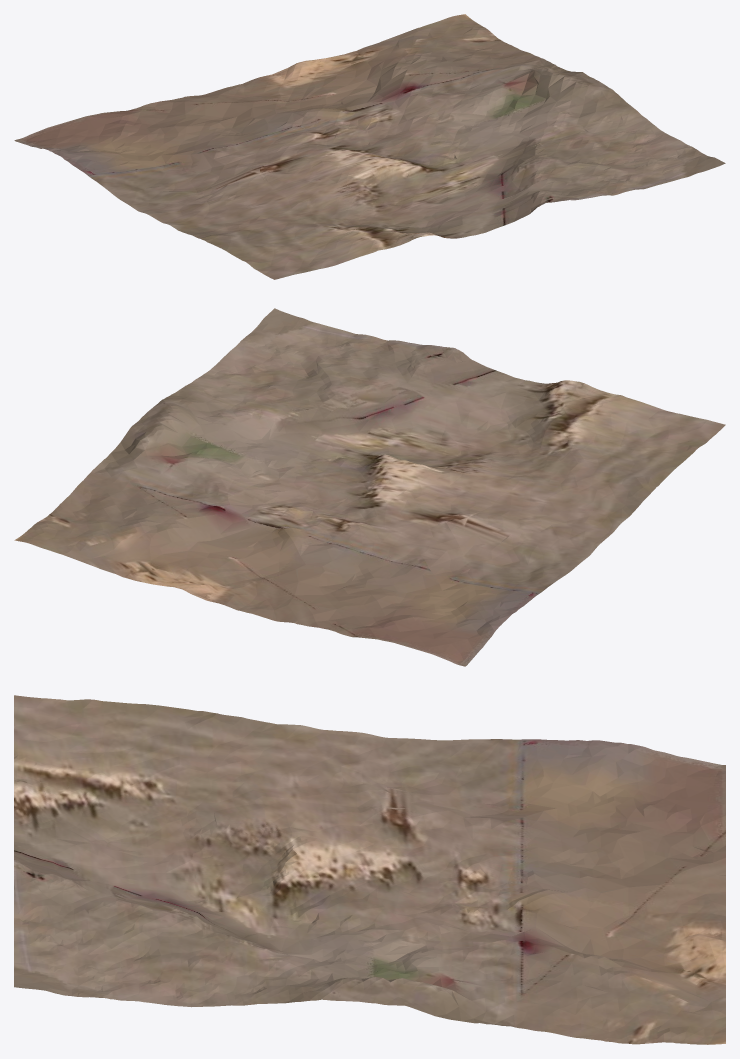
3 views of the same model, one above another, from view 1: azimuth 30°, elevation 25°; view 2: azimuth 150°, elevation 25°; view 3: azimuth 270°, elevation 25° (orthographic). The views are drawn at different scales.
Bounding box in the file's own units: 2.09 × 0.2763 × 2.09.
Materials: 2 (2 with a texture image).
